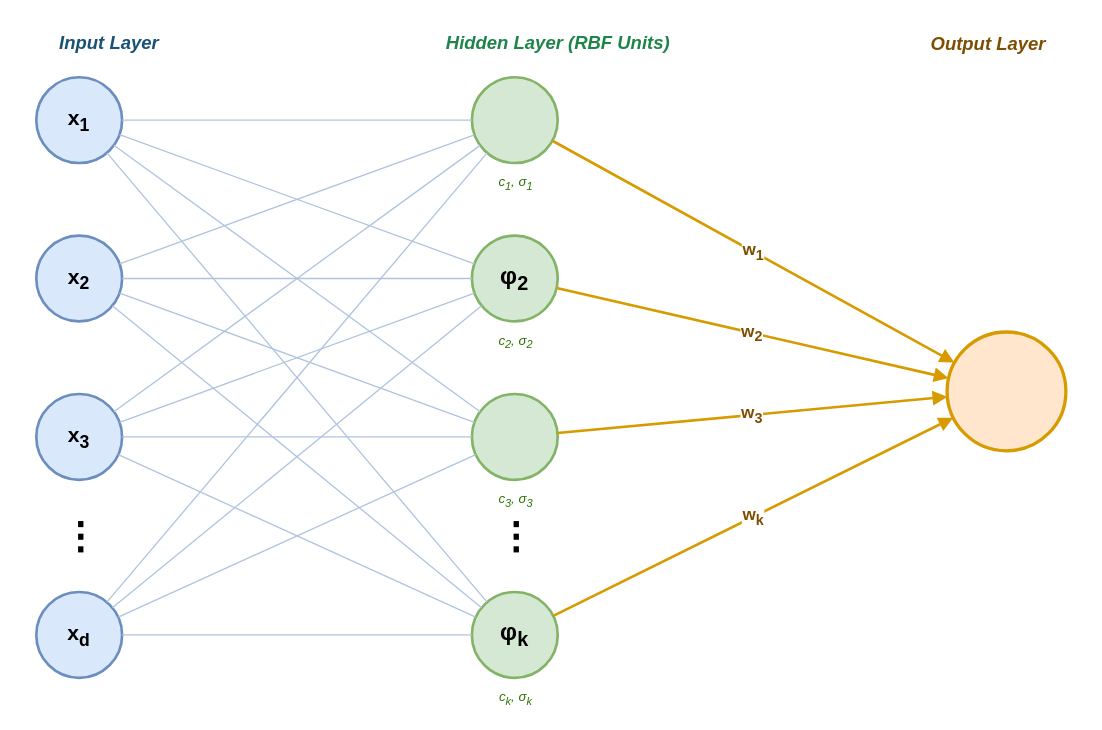
This 1102x730 diagram has some shape labels left out. The shapes that lost their labels are listed below. From the top down, each one's centre as x and y in pixels, then its label:
At (514,119): "φ 1".
At (1006,391): "R(x)".
At (514,436): "φ 3".
